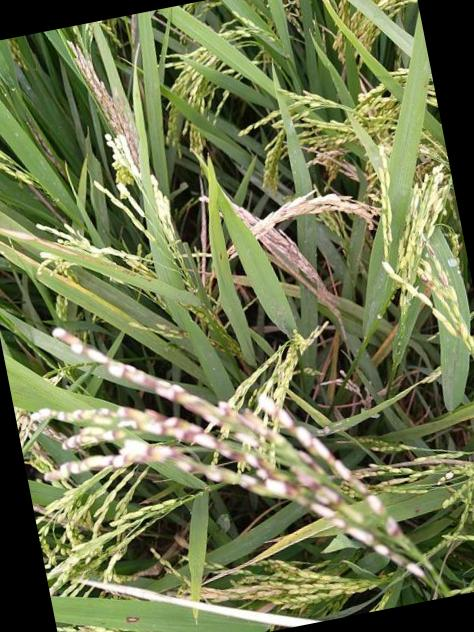Panicle Blight: (52, 329, 274, 447), (259, 396, 399, 537), (145, 409, 298, 497), (309, 503, 423, 577), (43, 446, 233, 483), (38, 408, 140, 431), (200, 584, 288, 602), (299, 474, 342, 510), (62, 429, 126, 450), (298, 450, 323, 480), (155, 322, 186, 334), (239, 475, 258, 488), (440, 467, 456, 482), (208, 338, 225, 352), (418, 273, 433, 287), (455, 324, 466, 338), (439, 270, 448, 287), (428, 247, 435, 257)
